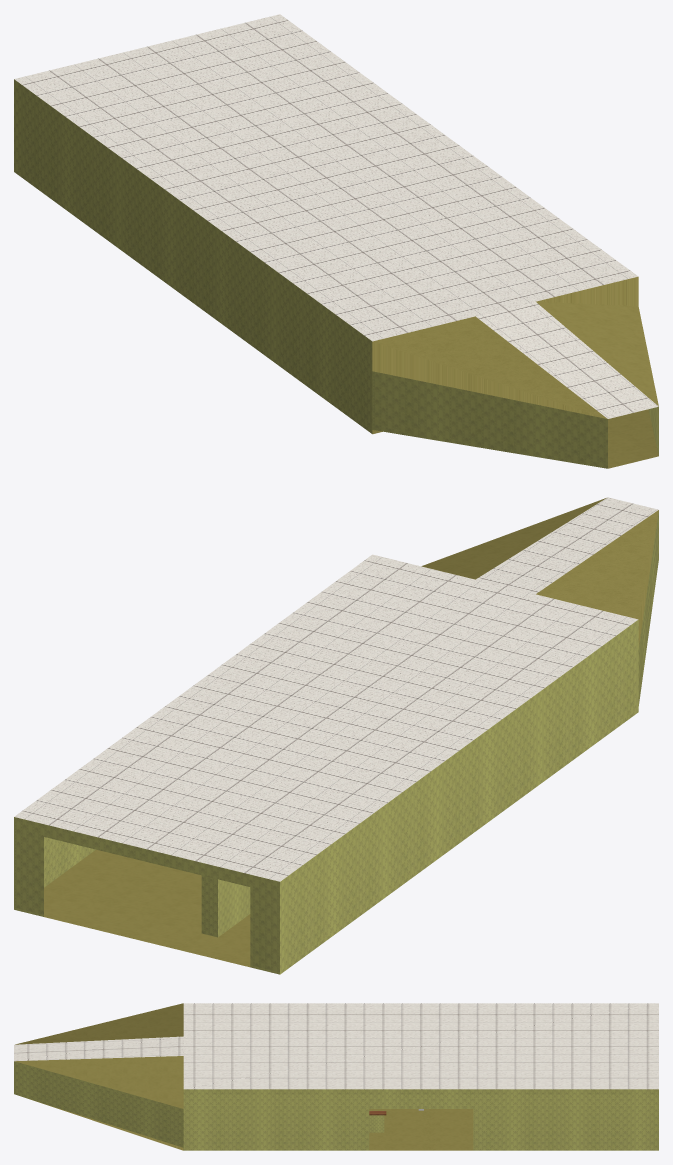
The model's file is Backrooms2.1.fbx.
3 views of the same model, one above another, from view 1: azimuth 30°, elevation 25°; view 2: azimuth 150°, elevation 25°; view 3: azimuth 270°, elevation 25° (orthographic). The views are drawn at different scales.
Visible parts, largest first — view 1: Backrooms2_Techo, Backrooms2_ParedE3, Backrooms2_Embudo1, Backrooms2_Embudo3, Backrooms2_Embudo2; view 2: Backrooms2_Techo, Backrooms2_ParedE3, Backrooms2_Embudo1, Backrooms2_Piso, Backrooms2ParedE2, Backrooms2_ParedI1, Backrooms2_ParedE1, Backrooms2_Embudo3; view 3: Backrooms2_Techo, Backrooms2_ParedE1, Backrooms2_Embudo1, Backrooms2_Embudo4, Backrooms2_Piso, Backrooms2_ParedI2, Backrooms2_Embudo2.
Part boxes in pixels (x1,y1,x2,y2): Backrooms2_Techo: (14, 14, 637, 341); Backrooms2_ParedE3: (14, 79, 372, 433); Backrooms2_Embudo1: (372, 276, 658, 418); Backrooms2_Embudo3: (372, 371, 607, 468); Backrooms2_Embudo2: (372, 409, 658, 468); Backrooms2_Techo: (14, 554, 638, 881); Backrooms2_ParedE3: (280, 619, 638, 974); Backrooms2_Embudo1: (421, 497, 658, 647); Backrooms2_Piso: (44, 849, 250, 967); Backrooms2ParedE2: (14, 817, 279, 974); Backrooms2_ParedI1: (201, 875, 250, 937); Backrooms2_ParedE1: (44, 837, 95, 887); Backrooms2_Embudo3: (638, 511, 658, 705); Backrooms2_Techo: (183, 1003, 658, 1089); Backrooms2_ParedE1: (183, 1089, 658, 1150); Backrooms2_Embudo1: (14, 1003, 183, 1108); Backrooms2_Embudo4: (14, 1061, 183, 1147); Backrooms2_Piso: (369, 1109, 473, 1150); Backrooms2_ParedI2: (369, 1111, 386, 1132); Backrooms2_Embudo2: (25, 1097, 183, 1150).
Size of the model in its own units: 1500 by 500 by 4749.
4 materials, 4 textured.
